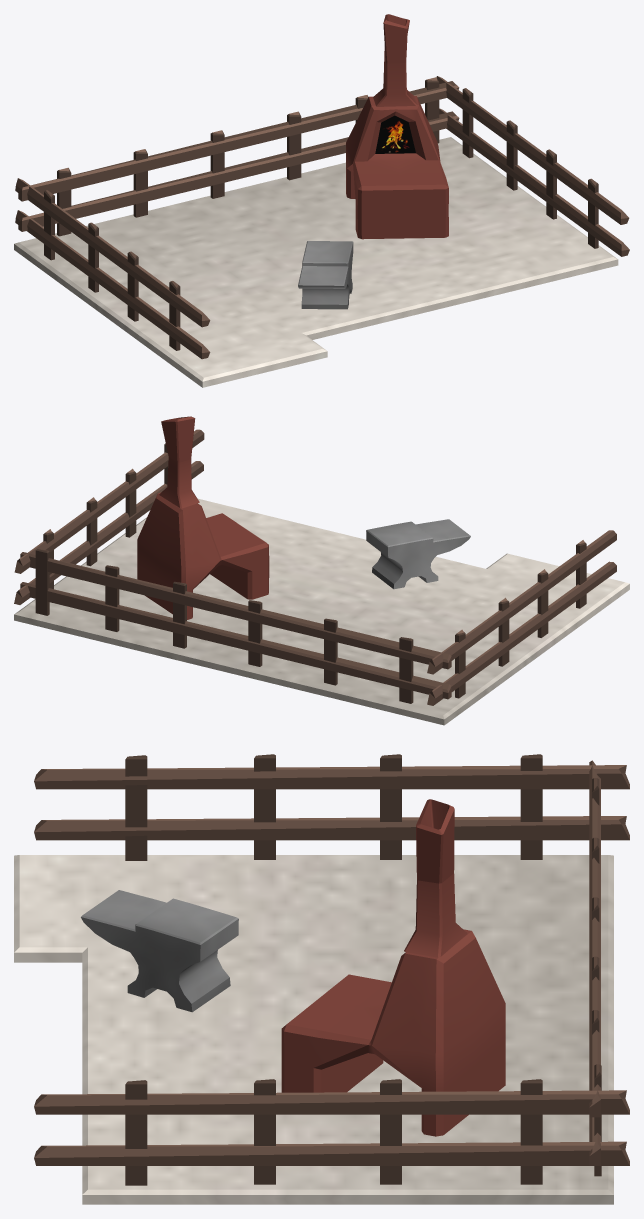
Rendered from blacksmith_0lvl_color.fbx.
3 views of the same model, one above another, from view 1: azimuth 30°, elevation 25°; view 2: azimuth 150°, elevation 25°; view 3: azimuth 270°, elevation 25° (orthographic). The views are drawn at different scales.
Parts seen in each view (by area): view 1: blacksmith_0lvl_color; view 2: blacksmith_0lvl_color; view 3: blacksmith_0lvl_color.
Boxes of the visible parts, box(x1,y1,x2,y2) form: blacksmith_0lvl_color: box(14, 14, 629, 387); blacksmith_0lvl_color: box(14, 416, 629, 725); blacksmith_0lvl_color: box(14, 754, 629, 1204).
Bounding box in the file's own units: 601 × 256 × 460.
